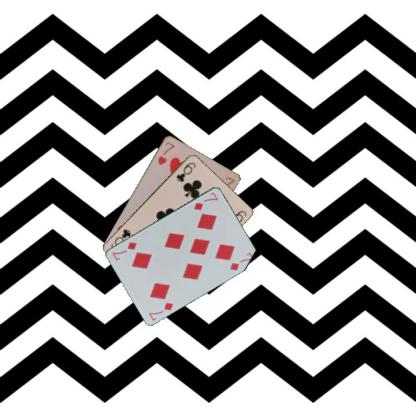6c: (174, 160, 197, 183)
7d: (146, 299, 175, 322), (191, 190, 220, 212)
7h: (155, 140, 176, 166)
